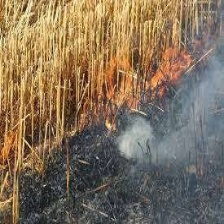smoke: (118, 123, 199, 162)
